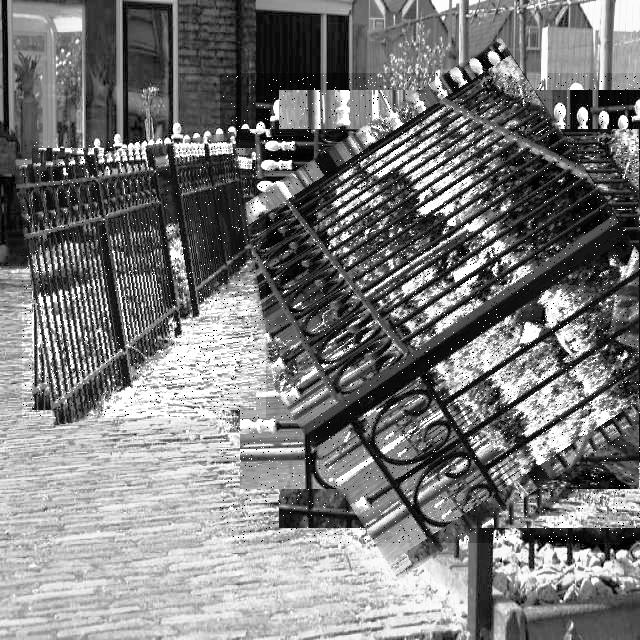fences: (220, 73, 640, 543), (22, 140, 266, 418)
